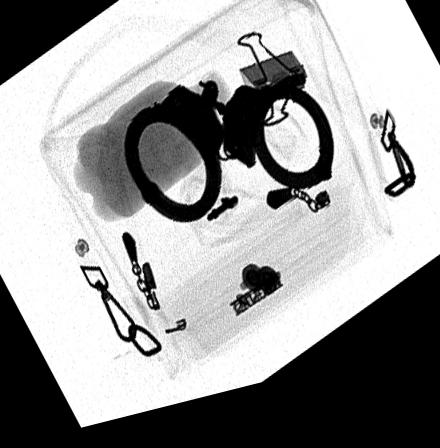HandCuffs: (124, 87, 333, 230)
